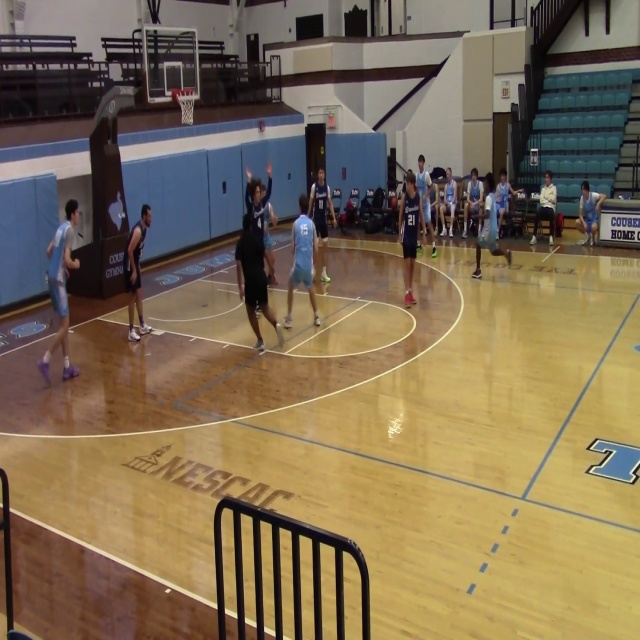Basketball: (618, 195, 623, 200)
